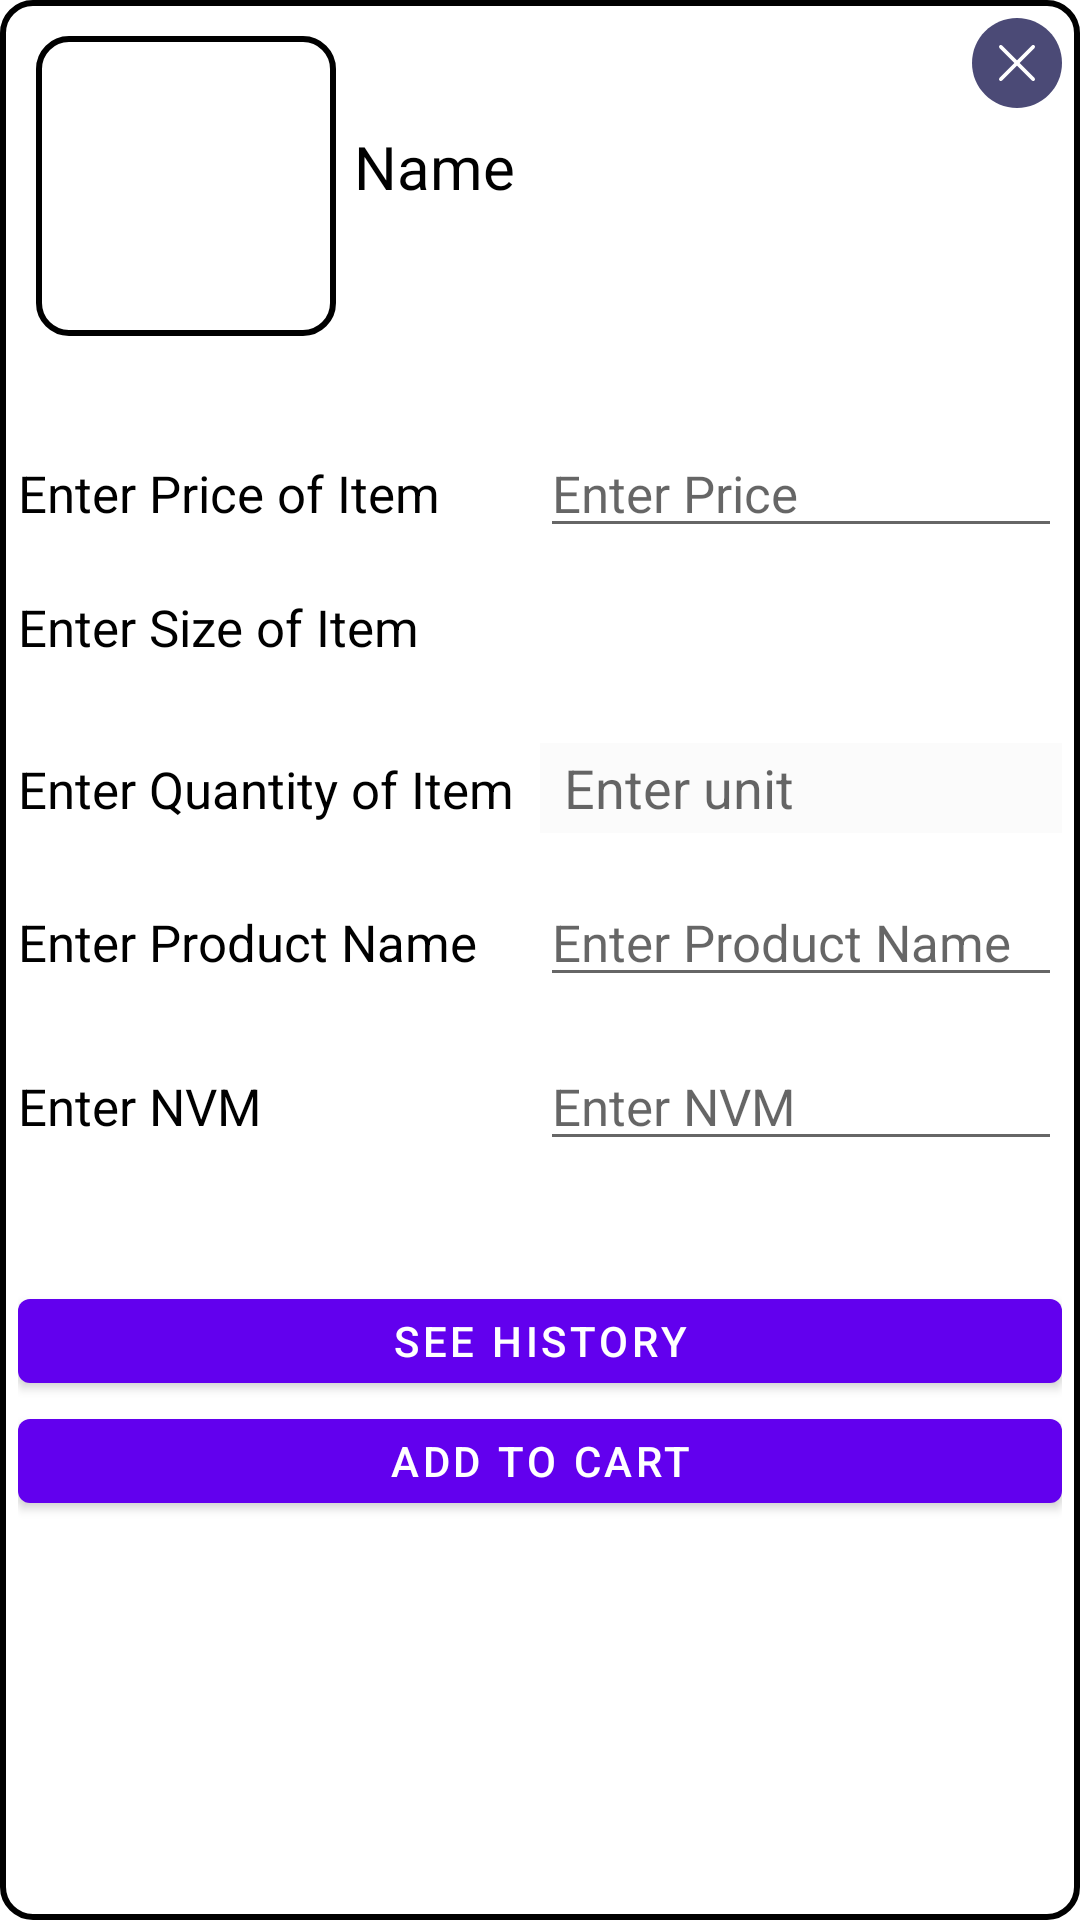

Screen size 1080 × 1920. Icon name, then its center in pixels as [x,y]:
cross: [1017,63]
